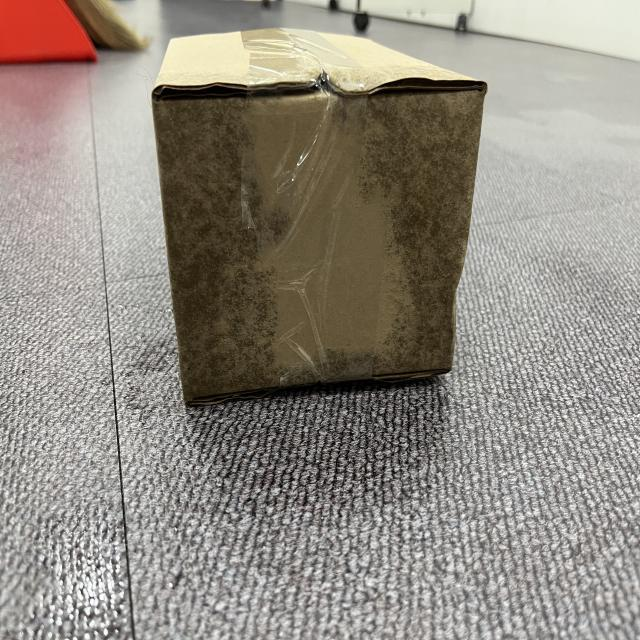wet: (338, 65, 479, 372), (151, 90, 291, 397)
